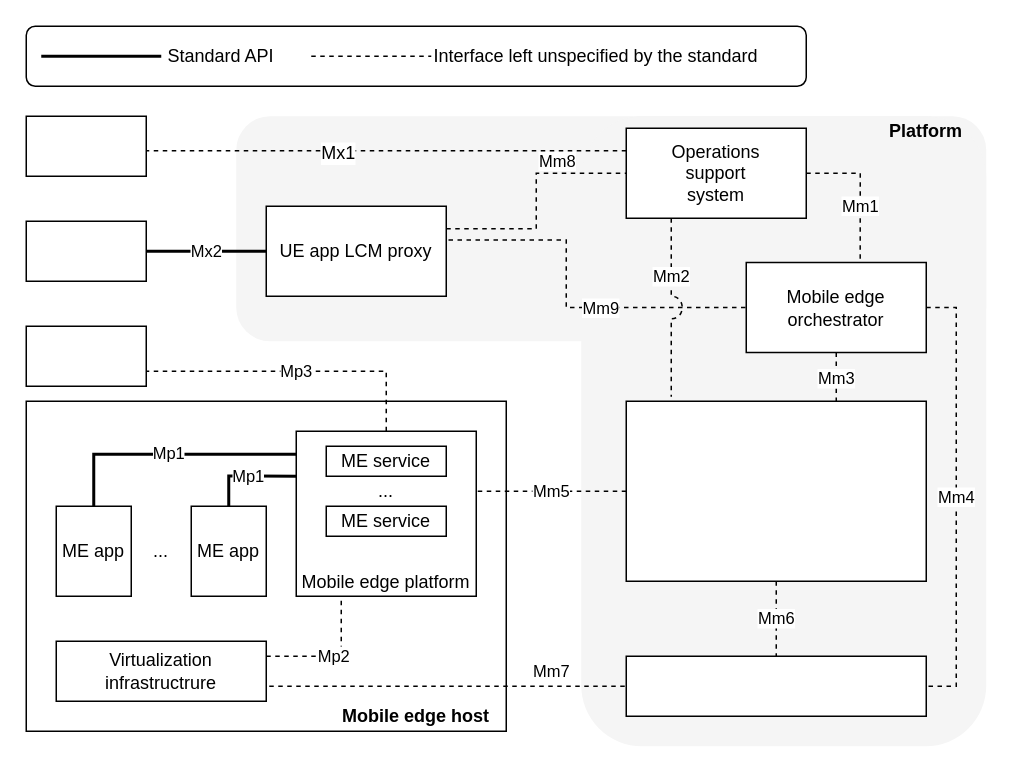
Some shapes in this 1013 by 773 pixel diagram are drawn without their labels. The shapes that lost their labels are listed below. From the top down, each one's box as (x1, y1, x2, y2) in pixels, then its label:
(25, 115, 146, 176): CFS
(25, 220, 146, 281): UE app
(25, 325, 146, 386): Other MEPs
(625, 400, 926, 581): Mobile edge platform manager
(625, 655, 926, 716): Virtualization infrastructure manager
